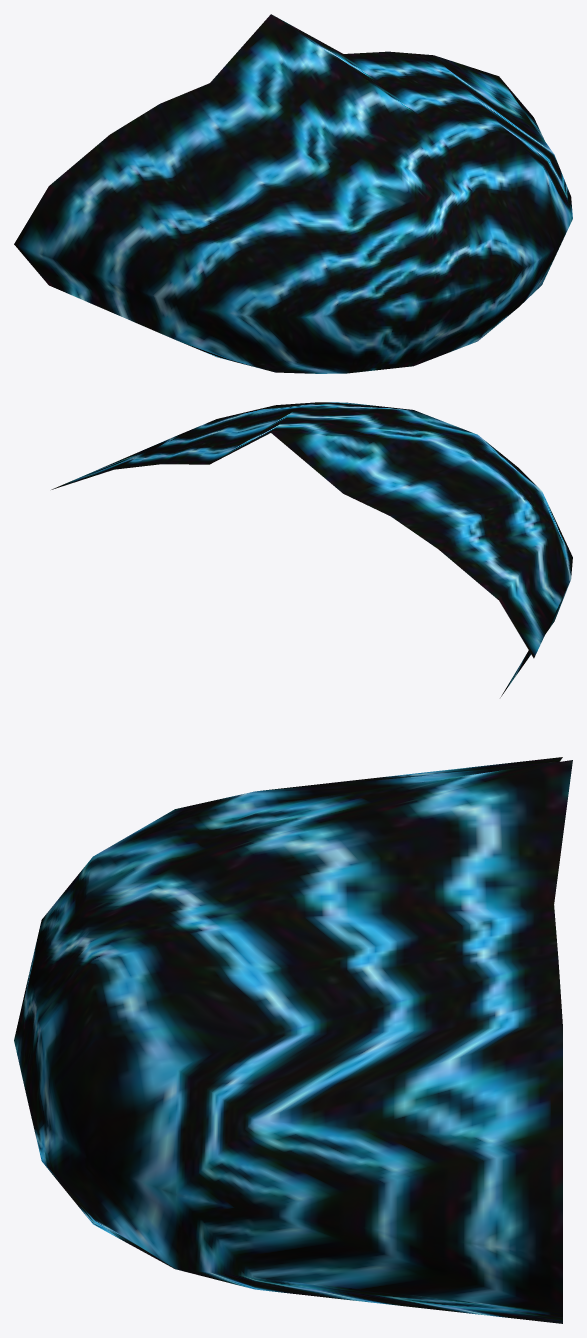
The picture shows the model from 3 angles, top to bottom: view 1: azimuth 30°, elevation 25°; view 2: azimuth 150°, elevation 25°; view 3: azimuth 270°, elevation 25°; orthographic projection. The views are drawn at different scales.
Visible parts, largest first — view 1: model_object67; view 2: model_object67; view 3: model_object67.
Boxes of the visible parts, bbox=[...] form: model_object67: bbox=[14, 14, 572, 373]; model_object67: bbox=[51, 402, 572, 697]; model_object67: bbox=[14, 757, 572, 1323].
Bounding box in the file's own units: 6.46 × 3.33 × 3.53.
Materials: 1 (1 with a texture image).
